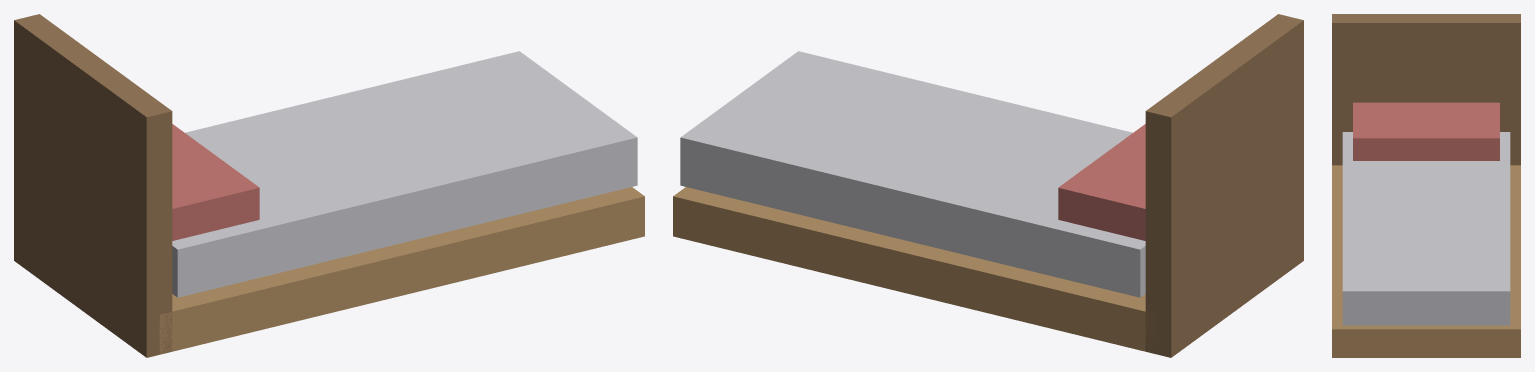
Rendered from bed.glb.
The picture shows the model from 3 angles, left to right: view 1: azimuth 30°, elevation 25°; view 2: azimuth 150°, elevation 25°; view 3: azimuth 270°, elevation 25°; orthographic projection. The views are drawn at different scales.
Visible parts, largest first — view 1: Cube; view 2: Cube; view 3: Cube.
Boxes of the visible parts, x1=… form: Cube: x1=14, y1=14, x2=644, y2=357; Cube: x1=673, y1=14, x2=1303, y2=357; Cube: x1=1332, y1=14, x2=1520, y2=357.
Bounding box in the file's own units: 1.95 × 0.9 × 0.9.
